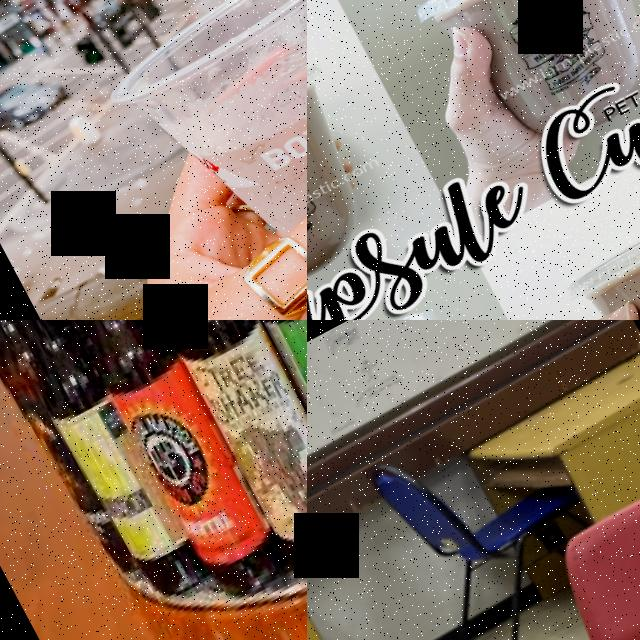cup: (88, 0, 307, 320), (403, 0, 640, 175), (307, 5, 406, 320)
